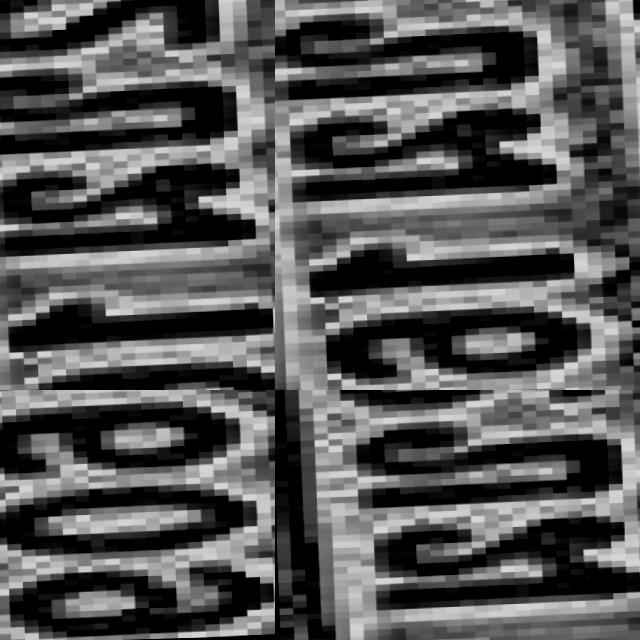license-plate: (275, 0, 640, 390), (275, 390, 640, 640), (68, 390, 275, 640)
